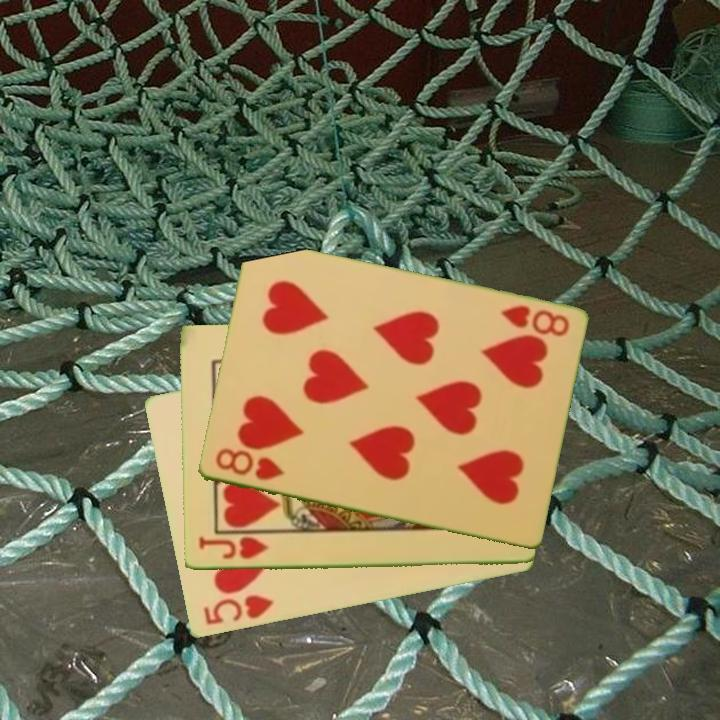5h: (200, 591, 276, 629)
8h: (211, 445, 288, 484), (497, 302, 572, 340)
Jh: (195, 533, 271, 563)
